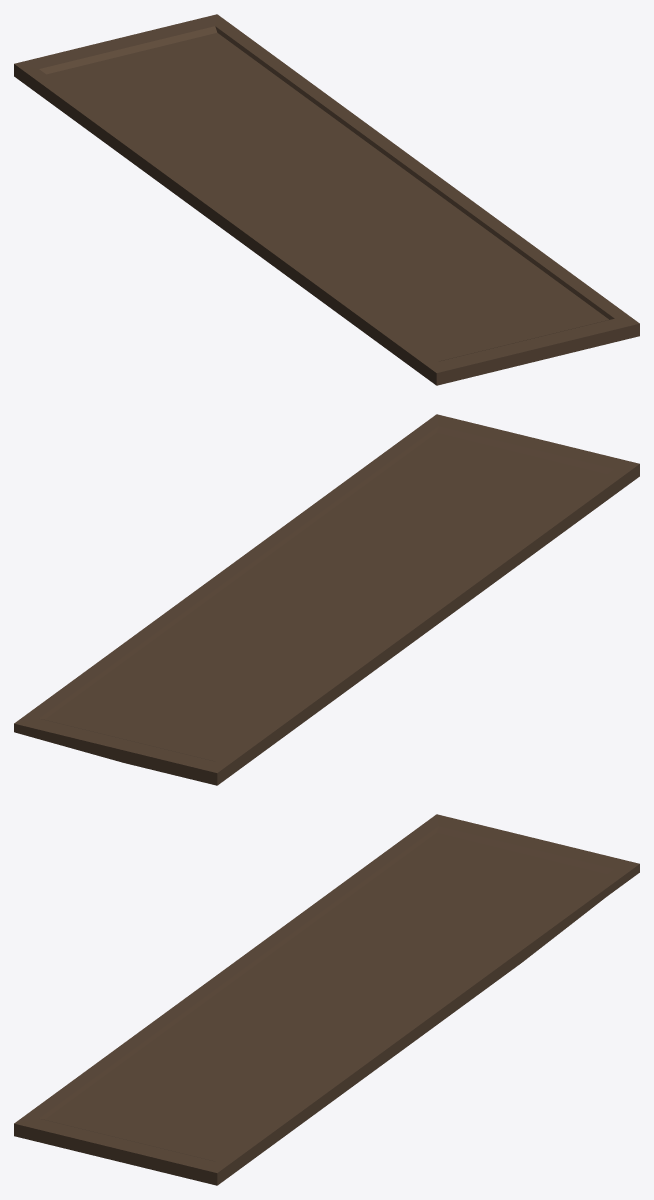
Rendered from Plaque_Pieces.fbx.
3 views of the same model, one above another, from view 1: azimuth 30°, elevation 25°; view 2: azimuth 150°, elevation 25°; view 3: azimuth 330°, elevation 25° (orthographic).
Parts seen in each view (by area): view 1: Plaque_Piece_04, Plaque_Piece_05, Plaque_Piece_02, Plaque_Piece_01, Plaque_Piece_11, Plaque_Piece_03, Plaque_Piece_08, Plaque_Piece_14, Plaque_Piece_06, Plaque_Piece_12, Plaque_Piece_16, Plaque_Piece_15 (+4 smaller); view 2: Plaque_Piece_04, Plaque_Piece_05, Plaque_Piece_02, Plaque_Piece_11, Plaque_Piece_12, Plaque_Piece_03, Plaque_Piece_08, Plaque_Piece_14, Plaque_Piece_01, Plaque_Piece_06, Plaque_Piece_16, Plaque_Piece_15 (+4 smaller); view 3: Plaque_Piece_04, Plaque_Piece_05, Plaque_Piece_02, Plaque_Piece_14, Plaque_Piece_11, Plaque_Piece_01, Plaque_Piece_08, Plaque_Piece_15, Plaque_Piece_06, Plaque_Piece_12, Plaque_Piece_16, Plaque_Piece_03 (+4 smaller).
Part boxes in pixels (x1=…): Plaque_Piece_04: x1=282, y1=246, x2=452, y2=355; Plaque_Piece_05: x1=102, y1=110, x2=288, y2=185; Plaque_Piece_02: x1=201, y1=177, x2=384, y2=279; Plaque_Piece_01: x1=396, y1=320, x2=561, y2=385; Plaque_Piece_11: x1=225, y1=38, x2=335, y2=144; Plaque_Piece_03: x1=120, y1=141, x2=303, y2=272; Plaque_Piece_08: x1=88, y1=67, x2=251, y2=125; Plaque_Piece_14: x1=323, y1=101, x2=494, y2=217; Plaque_Piece_06: x1=334, y1=190, x2=452, y2=277; Plaque_Piece_12: x1=108, y1=14, x2=249, y2=80; Plaque_Piece_16: x1=449, y1=258, x2=562, y2=335; Plaque_Piece_15: x1=524, y1=254, x2=639, y2=355; Plaque_Piece_04: x1=410, y1=491, x2=599, y2=588; Plaque_Piece_05: x1=210, y1=617, x2=358, y2=720; Plaque_Piece_02: x1=313, y1=535, x2=485, y2=648; Plaque_Piece_11: x1=47, y1=625, x2=225, y2=701; Plaque_Piece_12: x1=14, y1=692, x2=153, y2=762; Plaque_Piece_03: x1=315, y1=577, x2=485, y2=707; Plaque_Piece_08: x1=135, y1=662, x2=266, y2=735; Plaque_Piece_14: x1=133, y1=520, x2=291, y2=636; Plaque_Piece_01: x1=504, y1=433, x2=639, y2=505; Plaque_Piece_06: x1=288, y1=511, x2=428, y2=584; Plaque_Piece_16: x1=391, y1=449, x2=516, y2=521; Plaque_Piece_15: x1=342, y1=414, x2=514, y2=484; Plaque_Piece_04: x1=55, y1=1010, x2=242, y2=1102; Plaque_Piece_05: x1=295, y1=879, x2=443, y2=976; Plaque_Piece_02: x1=168, y1=945, x2=340, y2=1059; Plaque_Piece_14: x1=362, y1=950, x2=521, y2=1079; Plaque_Piece_11: x1=428, y1=888, x2=606, y2=969; Plaque_Piece_01: x1=14, y1=1094, x2=149, y2=1166; Plaque_Piece_08: x1=387, y1=859, x2=518, y2=932; Plaque_Piece_15: x1=138, y1=1104, x2=311, y2=1185; Plaque_Piece_06: x1=225, y1=1010, x2=365, y2=1083; Plaque_Piece_12: x1=500, y1=837, x2=639, y2=901; Plaque_Piece_16: x1=137, y1=1073, x2=262, y2=1145; Plaque_Piece_03: x1=169, y1=892, x2=338, y2=1011.
Size of the model in its own units: 3.49 by 0.2096 by 12.58.
